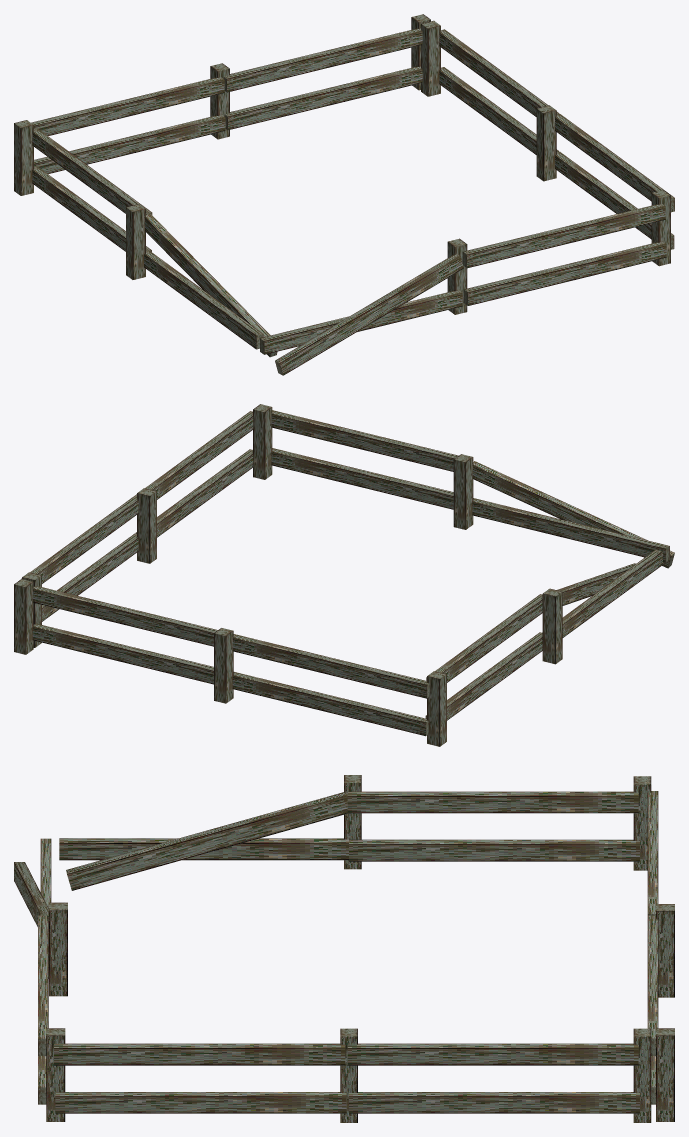
The model's file is CorrAll.fbx.
3 views of the same model, one above another, from view 1: azimuth 30°, elevation 25°; view 2: azimuth 150°, elevation 25°; view 3: azimuth 270°, elevation 25° (orthographic). The views are drawn at different scales.
Parts seen in each view (by area): view 1: CORRALL; view 2: CORRALL; view 3: CORRALL.
Boxes of the visible parts, bbox=[...] form: CORRALL: bbox=[14, 14, 674, 375]; CORRALL: bbox=[14, 404, 674, 746]; CORRALL: bbox=[14, 775, 674, 1122].
Bounding box in the file's own units: 43.37 × 7.13 × 45.71.
